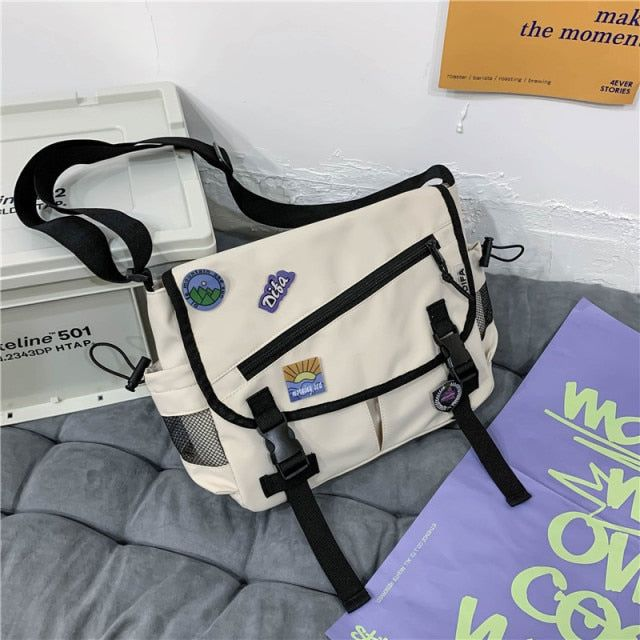nylon: (146, 182, 498, 512)
